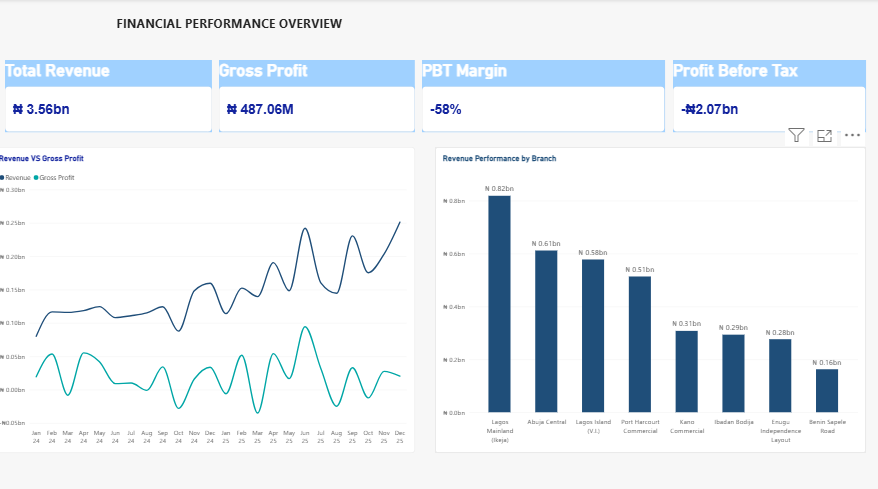

What the dashboard file says about the page in this screenshot:
{"tool":"powerbi","page":{"name":"Financial Overview: KPI","canvas":[1920,1080],"ordinal":0},"visuals":[{"type":"cardVisual","title":"Total Revenue","fields":{"Data":["FactFinancialTransactions.Revenue"]},"box":[30.2,131.8,447.1,155.5],"z":0},{"type":"cardVisual","title":"Gross Profit","fields":{"Data":["FactFinancialTransactions.Gross Profit"]},"box":[492.5,131.8,423.4,155.5],"z":1000},{"type":"cardVisual","title":"Profit Before Tax","fields":{"Data":["FactFinancialTransactions.Profit Before Tax"]},"box":[1473.1,131.8,416.9,155.5],"z":2000},{"type":"cardVisual","title":"PBT Margin","fields":{"Data":["FactFinancialTransactions.Profit Before Tax Margin"]},"box":[931,131.8,524.9,155.5],"z":3000},{"type":"lineChart","title":"Revenue VS Gross Profit","fields":{"Category":["Date.Month Label"],"Y":["FactFinancialTransactions.Revenue","FactFinancialTransactions.Gross Profit"]},"box":[0,319.7,915.8,661],"z":4000},{"type":"clusteredColumnChart","title":"Revenue Performance by Branch","fields":{"Category":["DimBranch.BranchName"],"Y":["FactFinancialTransactions.Revenue"]},"box":[959,319.7,931,661],"z":5000},{"type":"textbox","box":[99.4,34.6,831.6,67],"z":6000}]}

Visuals, with their boxes in screenshot pixels (x1, y1, x2, y2), scaled from the page's 1920x1080 canvas onto the 878x489 screenshot:
"Total Revenue" cardVisual: [x1=14, y1=60, x2=218, y2=130]
"Gross Profit" cardVisual: [x1=225, y1=60, x2=419, y2=130]
"Profit Before Tax" cardVisual: [x1=674, y1=60, x2=864, y2=130]
"PBT Margin" cardVisual: [x1=426, y1=60, x2=666, y2=130]
"Revenue VS Gross Profit" lineChart: [x1=0, y1=145, x2=419, y2=444]
"Revenue Performance by Branch" clusteredColumnChart: [x1=439, y1=145, x2=864, y2=444]
textbox: [x1=45, y1=16, x2=426, y2=46]
